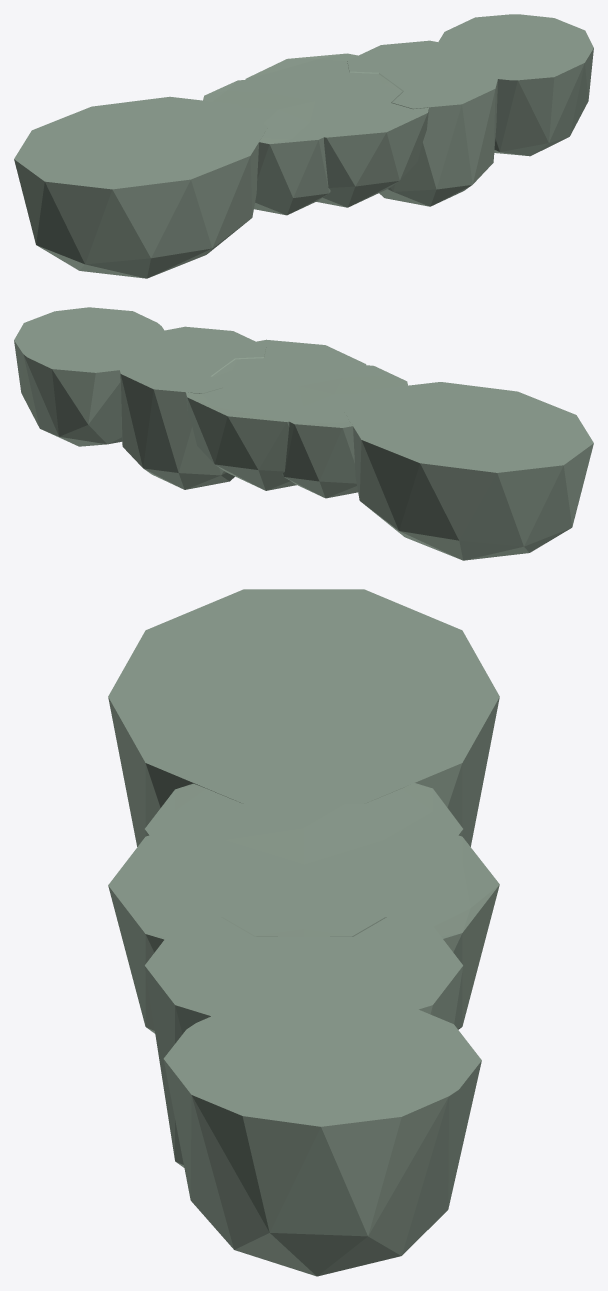
File: cloud-platform.fbx
3 views of the same model, one above another, from view 1: azimuth 30°, elevation 25°; view 2: azimuth 150°, elevation 25°; view 3: azimuth 270°, elevation 25° (orthographic). The views are drawn at different scales.
Parts seen in each view (by area): view 1: cloud-platform; view 2: cloud-platform; view 3: cloud-platform.
Boxes of the visible parts, <box> form: cloud-platform: <box>14,14,593,278</box>; cloud-platform: <box>14,307,593,560</box>; cloud-platform: <box>108,589,499,1276</box>.
Size of the model in its own units: 798 by 172 by 246.
